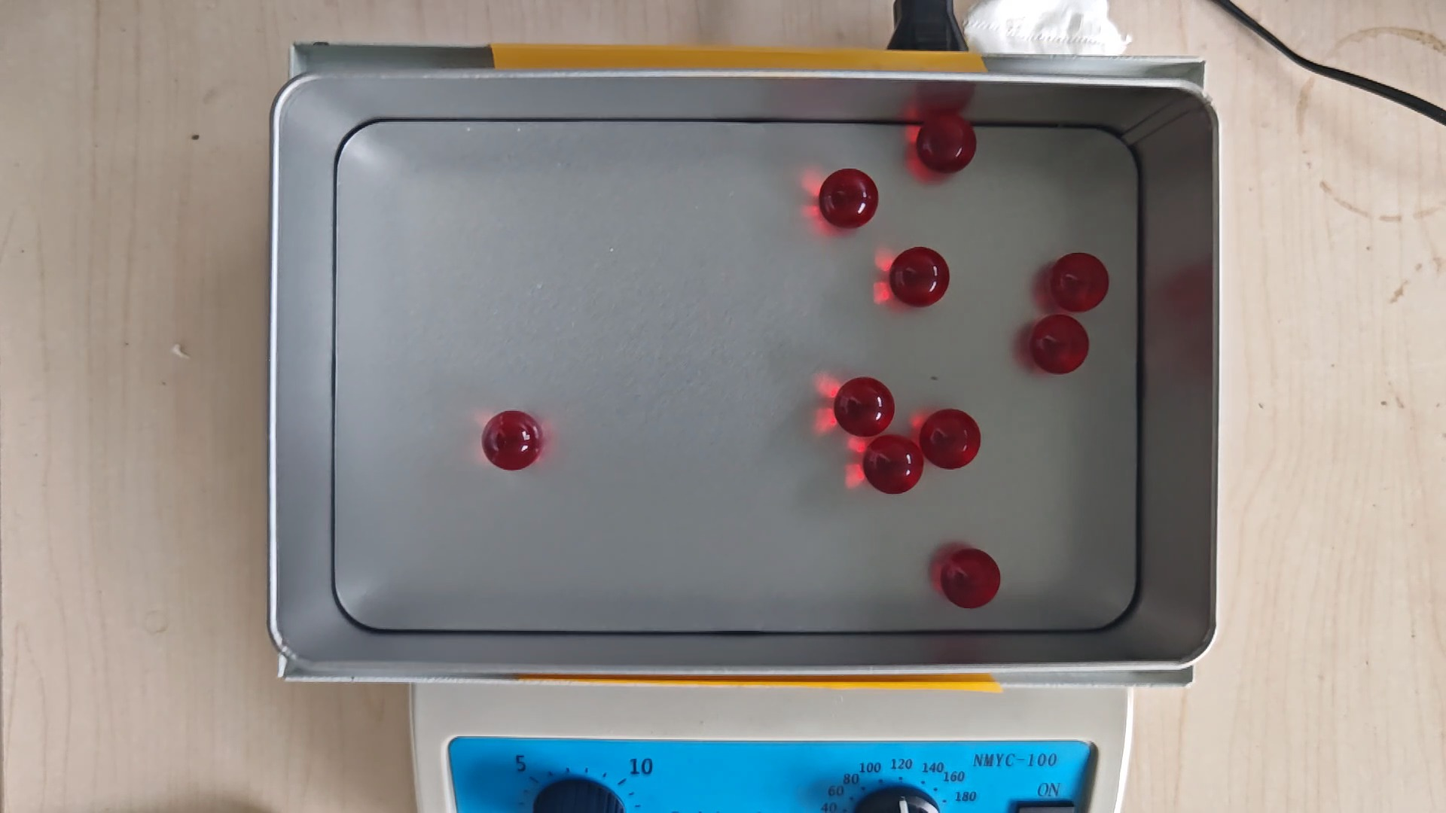ball: (482, 409, 543, 472), (921, 408, 981, 470), (941, 548, 1001, 610), (834, 376, 894, 437), (819, 168, 879, 229), (891, 246, 950, 308), (863, 434, 922, 496), (1050, 252, 1110, 312), (1030, 315, 1090, 375), (918, 113, 977, 173)
container: (333, 121, 1139, 632)
